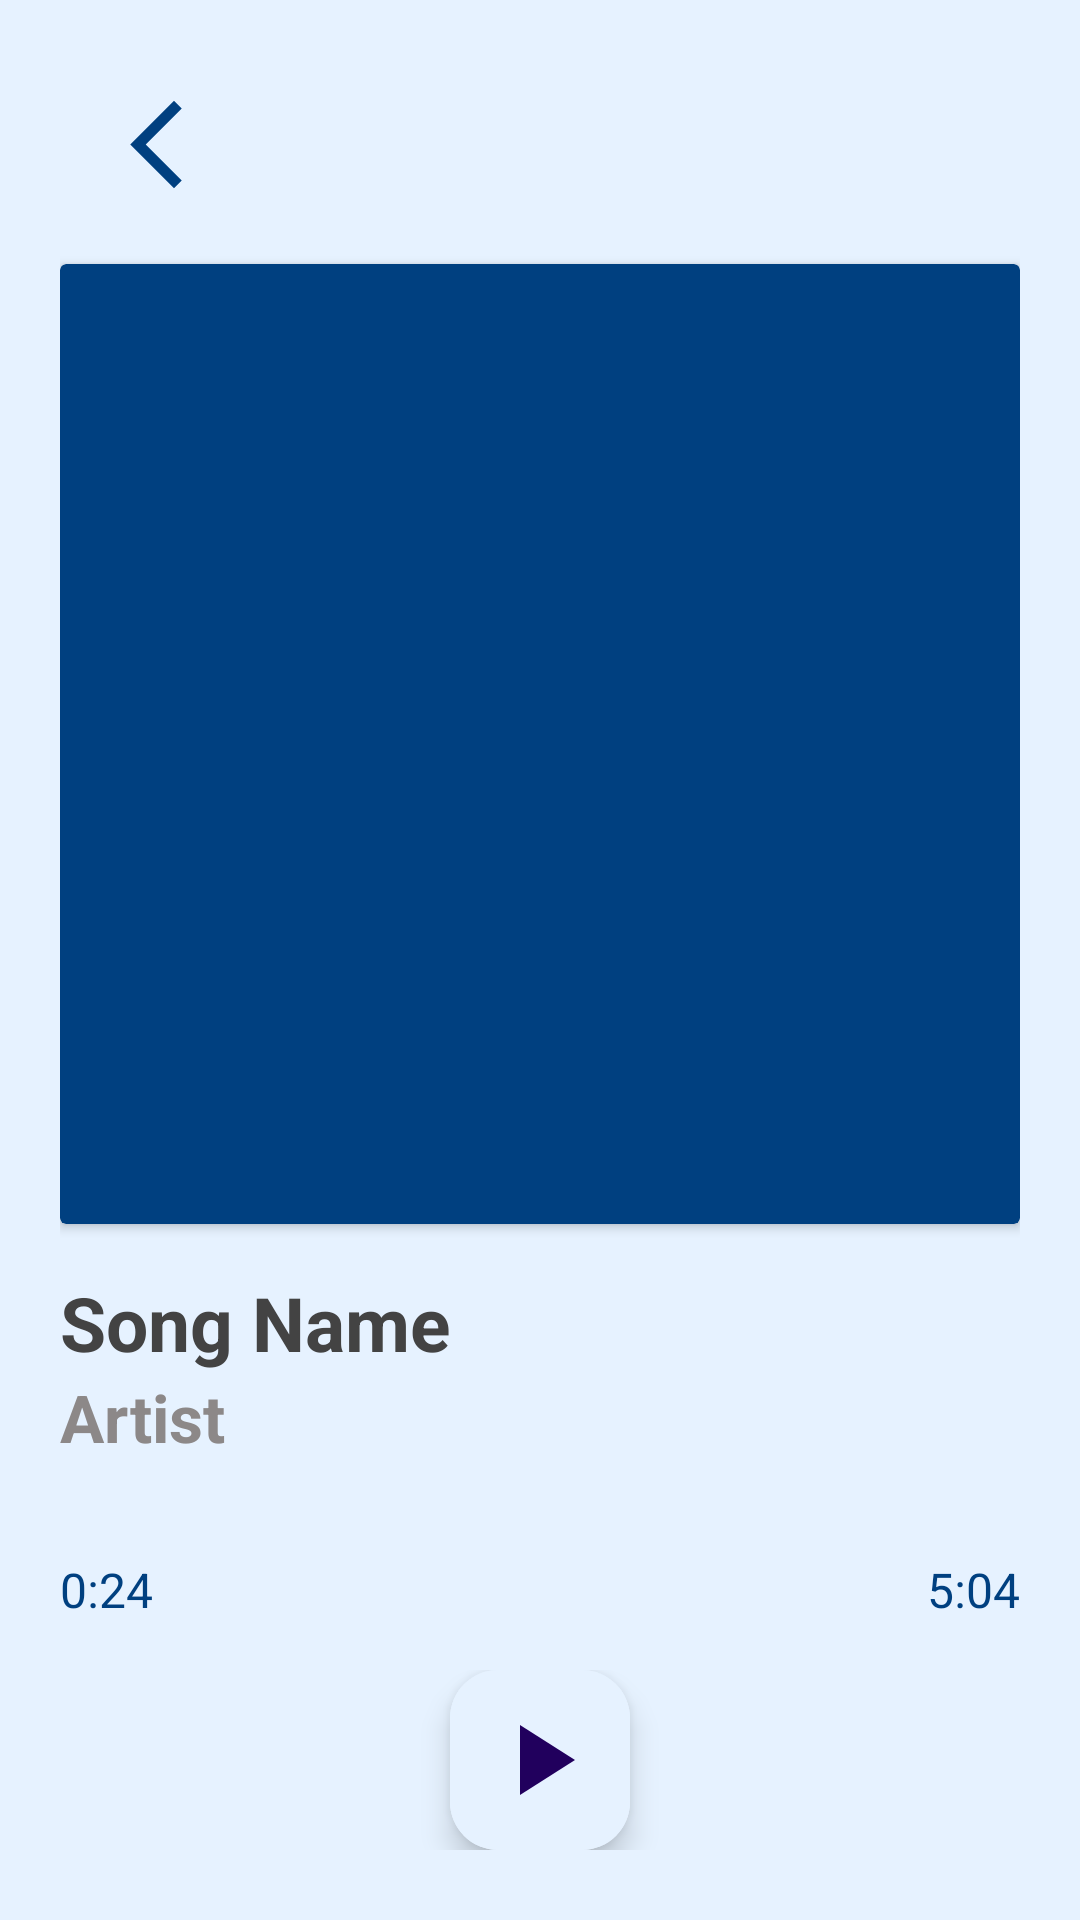

Screen size 1080 x 1920. Icon name, then its box in pixels as (x1, y1, x2, y2):
Back: (130, 101, 182, 188)
Play button: (450, 1725, 630, 1850)
